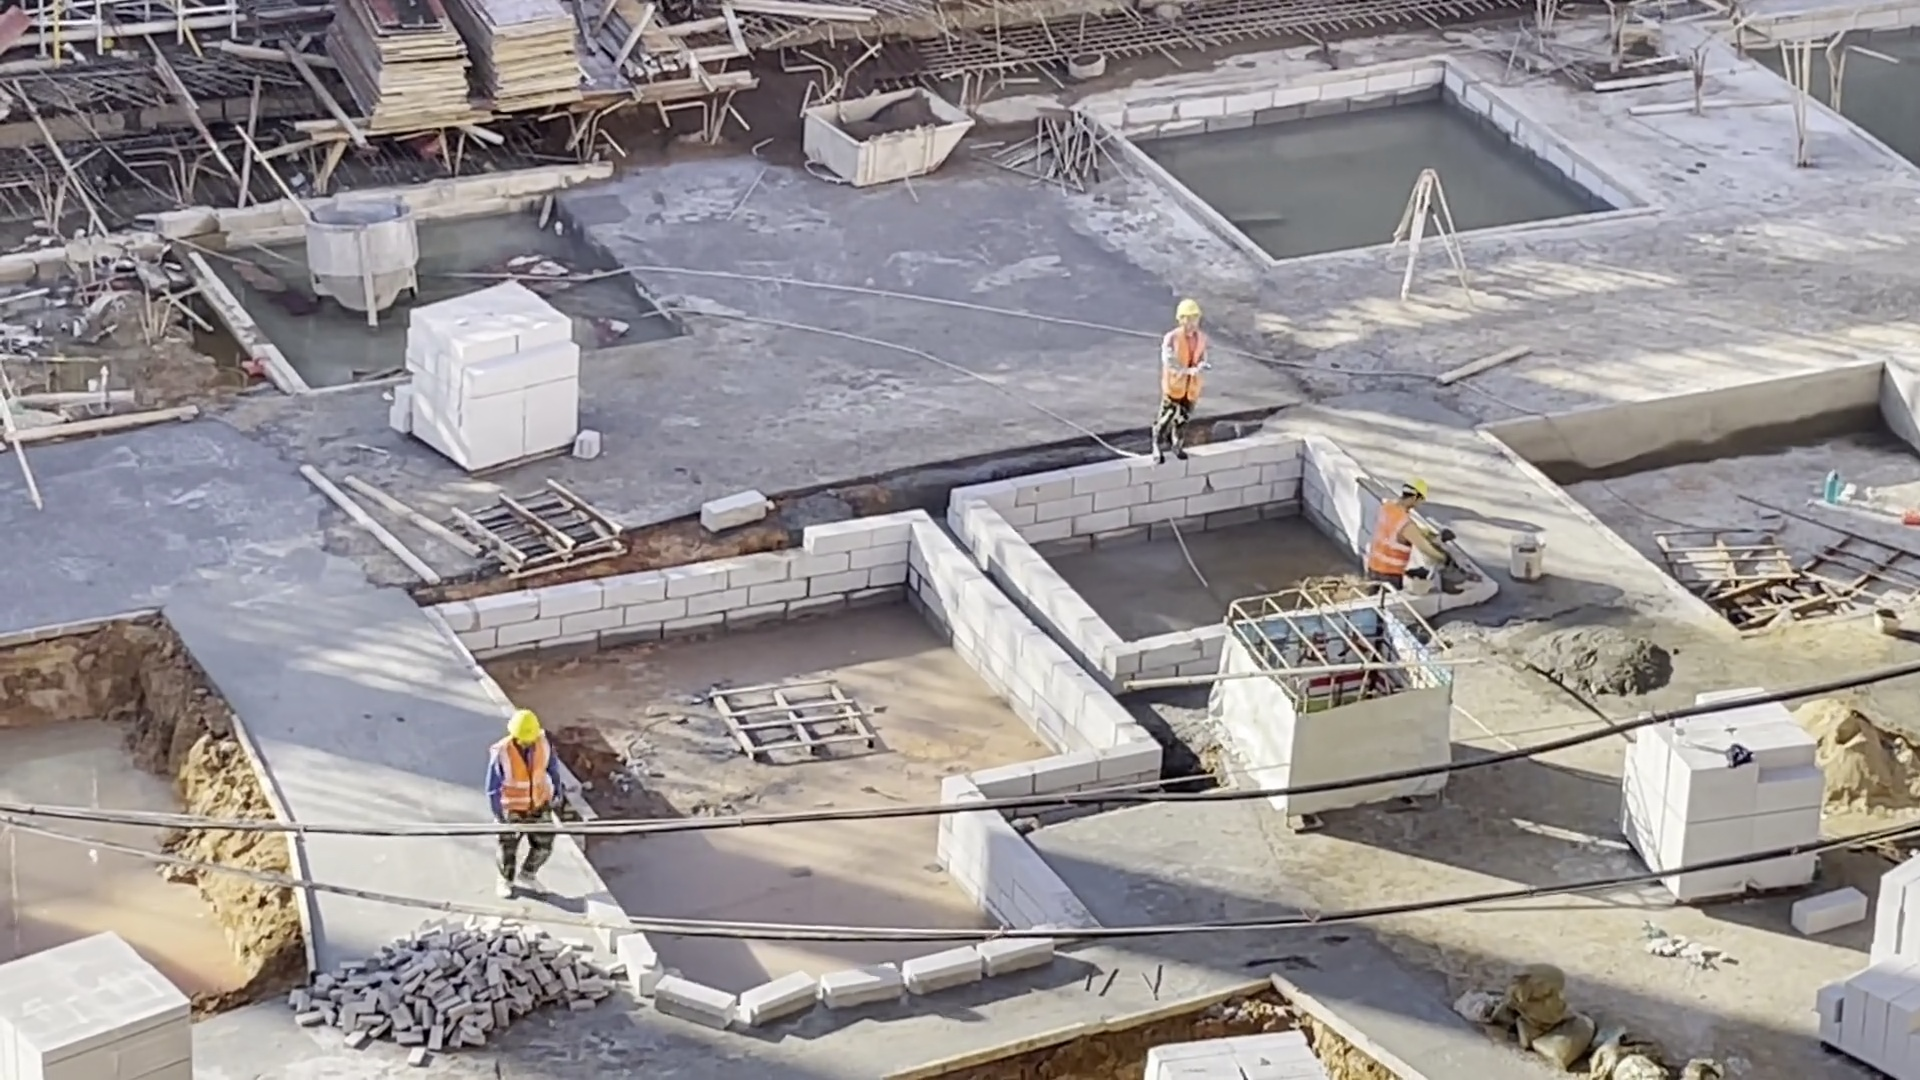board: (318, 1, 474, 131), (452, 4, 601, 120)
brick: (391, 272, 575, 478), (1, 908, 196, 1080), (1801, 848, 1920, 1068), (1609, 731, 1827, 845), (1126, 1024, 1320, 1080)
helmet: (505, 706, 542, 744), (1174, 298, 1206, 323), (1400, 477, 1430, 499)
hopper: (797, 86, 982, 182), (300, 183, 418, 330)
person: (488, 703, 568, 894), (1148, 295, 1214, 468), (1370, 479, 1441, 605)
vest: (493, 734, 555, 813), (1160, 326, 1207, 406), (1374, 502, 1416, 577)
